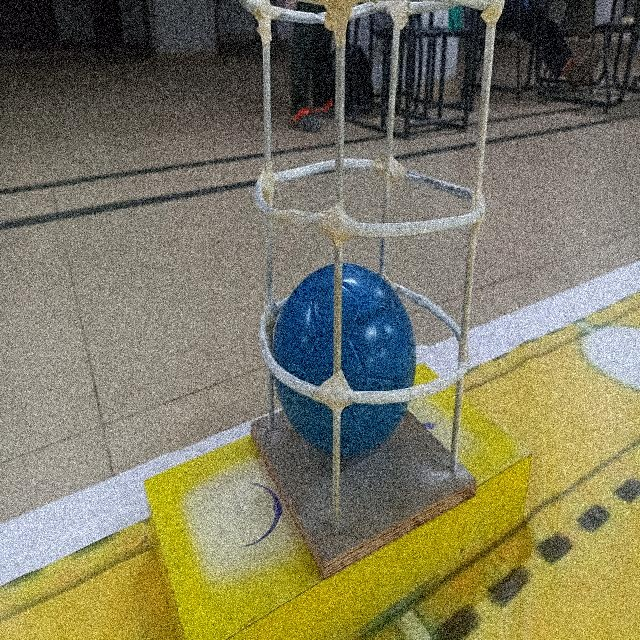blue_ball: (270, 246, 430, 464)
silo: (241, 0, 502, 532)
